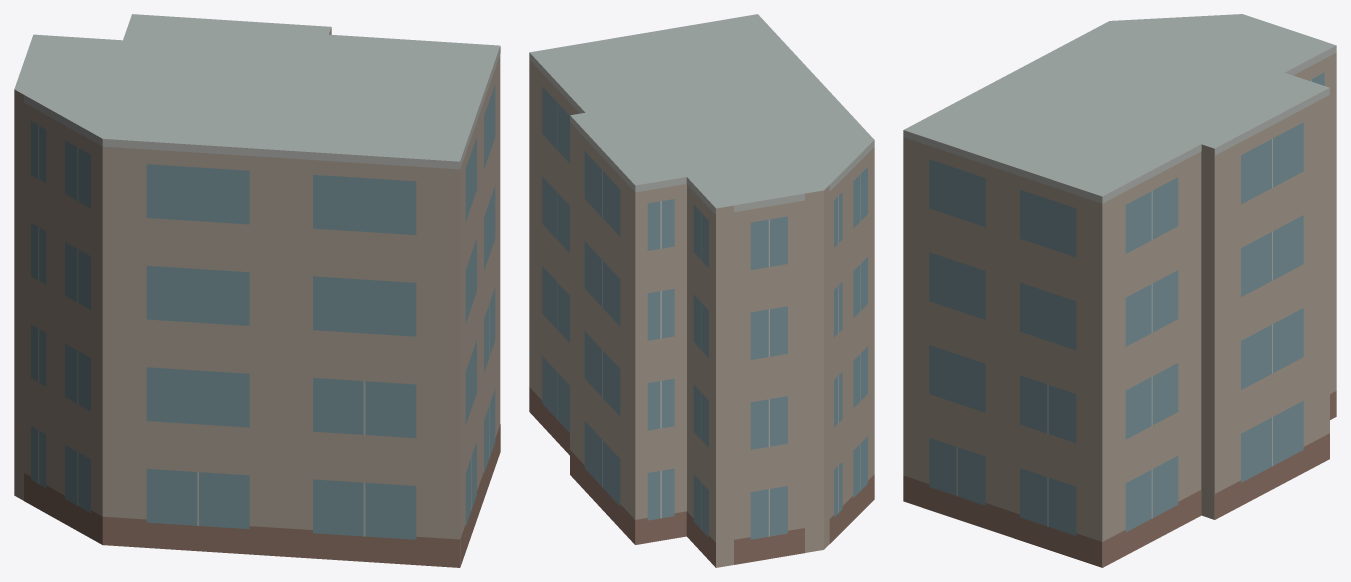
The model's file is survey-upis-32853460.glb.
3 renders of one model, left to right at view 1: azimuth 30°, elevation 25°; view 2: azimuth 150°, elevation 25°; view 3: azimuth 270°, elevation 25°, orthographic. The views are drawn at different scales.
Parts seen in each view (by area): view 1: survey-upis-32853460.tmp; view 2: survey-upis-32853460.tmp; view 3: survey-upis-32853460.tmp.
Part boxes in pixels (box(x1,y1,x2,y2)): survey-upis-32853460.tmp: box(14, 14, 500, 567); survey-upis-32853460.tmp: box(529, 14, 874, 567); survey-upis-32853460.tmp: box(903, 14, 1336, 567).
Bounding box in the file's own units: 13.46 × 12.75 × 13.49.
